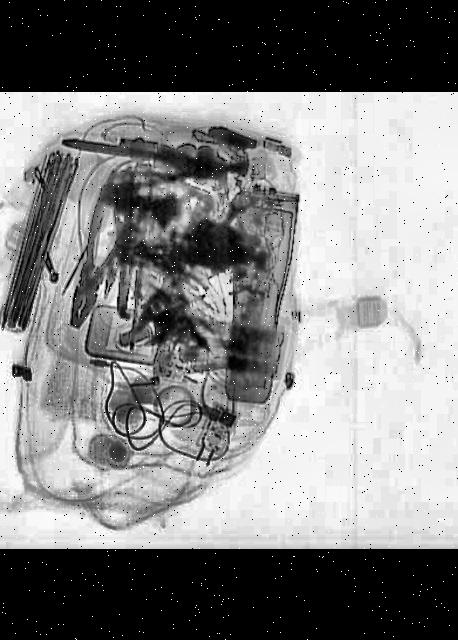Pliers: (54, 168, 152, 334)
